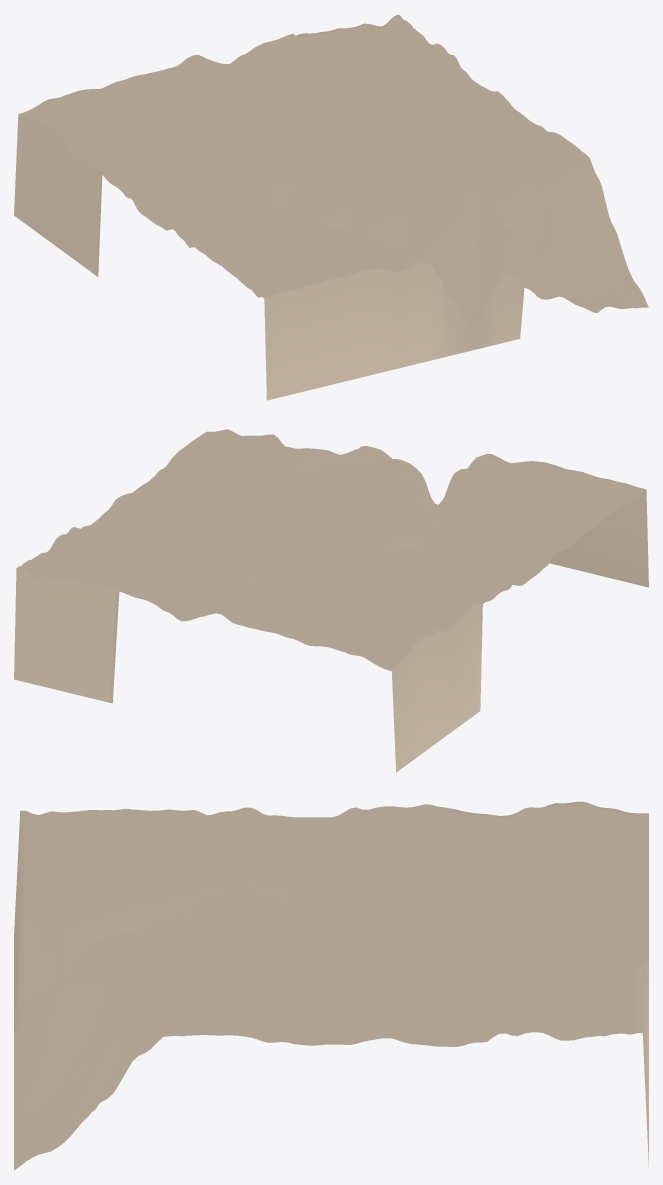
Rendered from itaimbezinho.glb.
3 renders of one model, top to bottom at view 1: azimuth 30°, elevation 25°; view 2: azimuth 150°, elevation 25°; view 3: azimuth 270°, elevation 25°, orthographic. The views are drawn at different scales.
Bounding box in the file's own units: 0.8725 × 0.2542 × 1.
